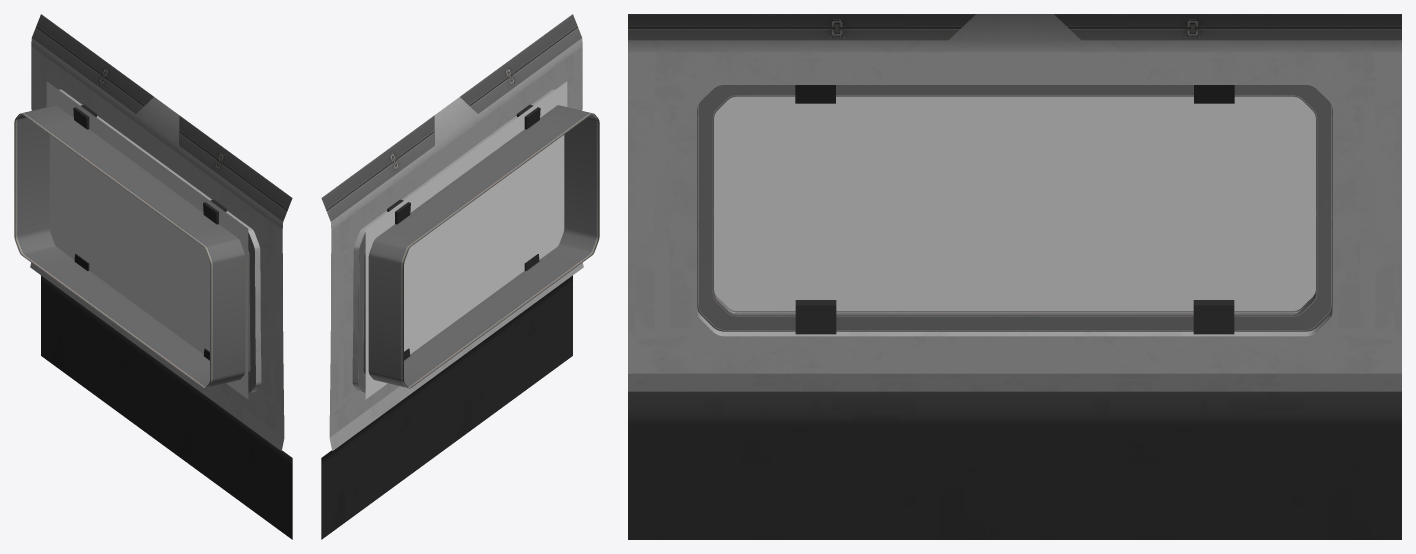
Rendered from WallAstra_Straight_Flat_Window.glb.
3 views of the same model, side by side, from view 1: azimuth 30°, elevation 25°; view 2: azimuth 150°, elevation 25°; view 3: azimuth 270°, elevation 25° (orthographic). The views are drawn at different scales.
Visible parts, largest first — view 1: WallAstra_Straight_Flat_Window; view 2: WallAstra_Straight_Flat_Window; view 3: WallAstra_Straight_Flat_Window.
Part boxes in pixels (x1=…): WallAstra_Straight_Flat_Window: x1=14, y1=14, x2=292, y2=539; WallAstra_Straight_Flat_Window: x1=321, y1=14, x2=599, y2=539; WallAstra_Straight_Flat_Window: x1=628, y1=14, x2=1401, y2=539.
Bounding box in the file's own units: 0.5015 × 3 × 4.
Materials: 4 (3 with a texture image).
